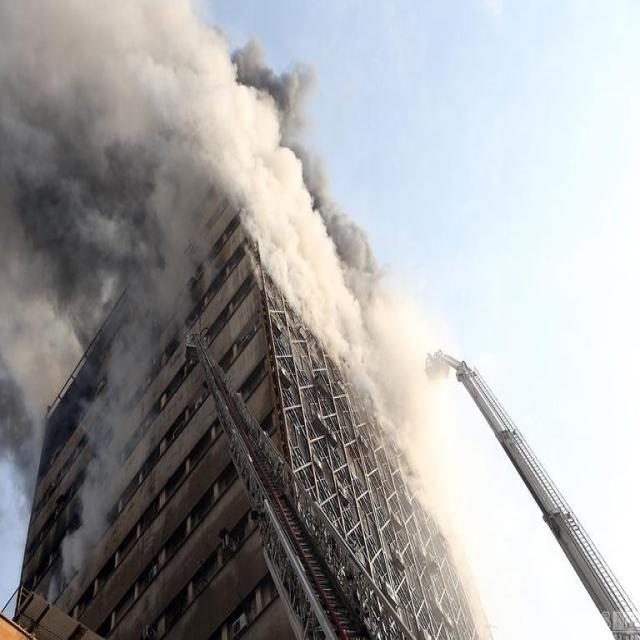Smoke: (0, 0, 436, 433)
